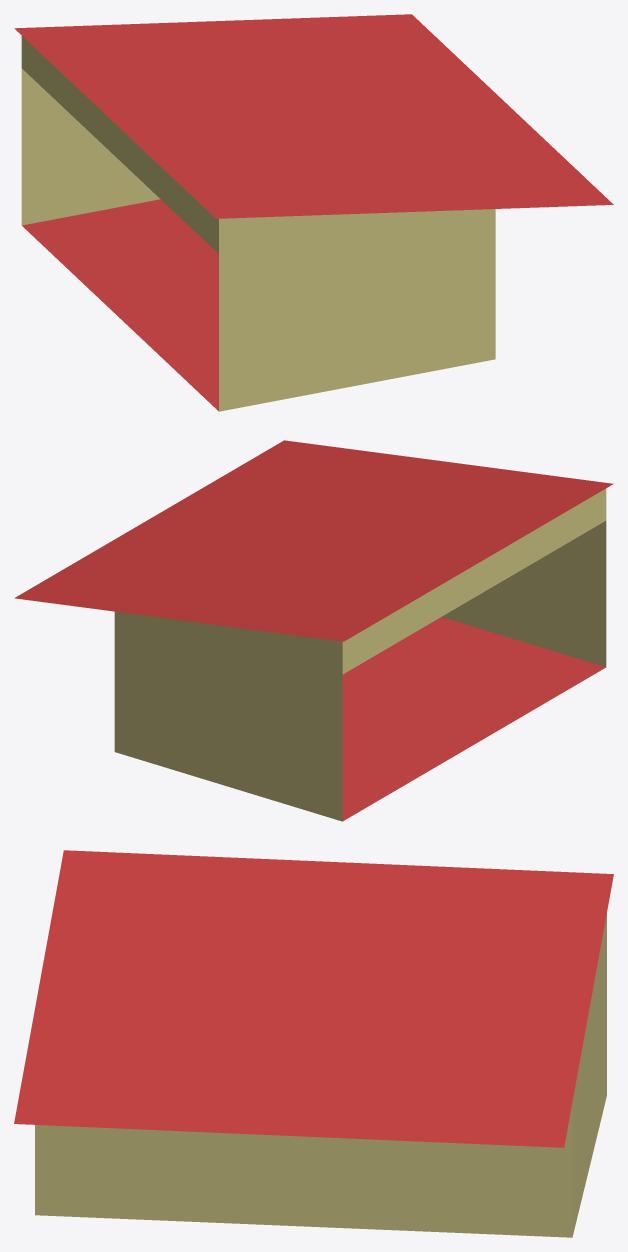
3 renders of one model, top to bottom at view 1: azimuth 30°, elevation 25°; view 2: azimuth 150°, elevation 25°; view 3: azimuth 270°, elevation 25°, orthographic. The views are drawn at different scales.
Size of the model in its own units: 20.97 by 23.23 by 9.37.
